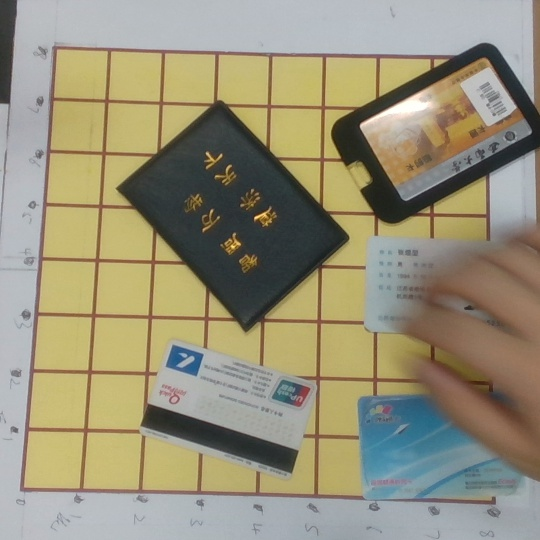card: (138, 338, 317, 481), (354, 389, 531, 500), (361, 232, 514, 341)
wallet: (113, 95, 349, 334), (332, 41, 540, 222)
